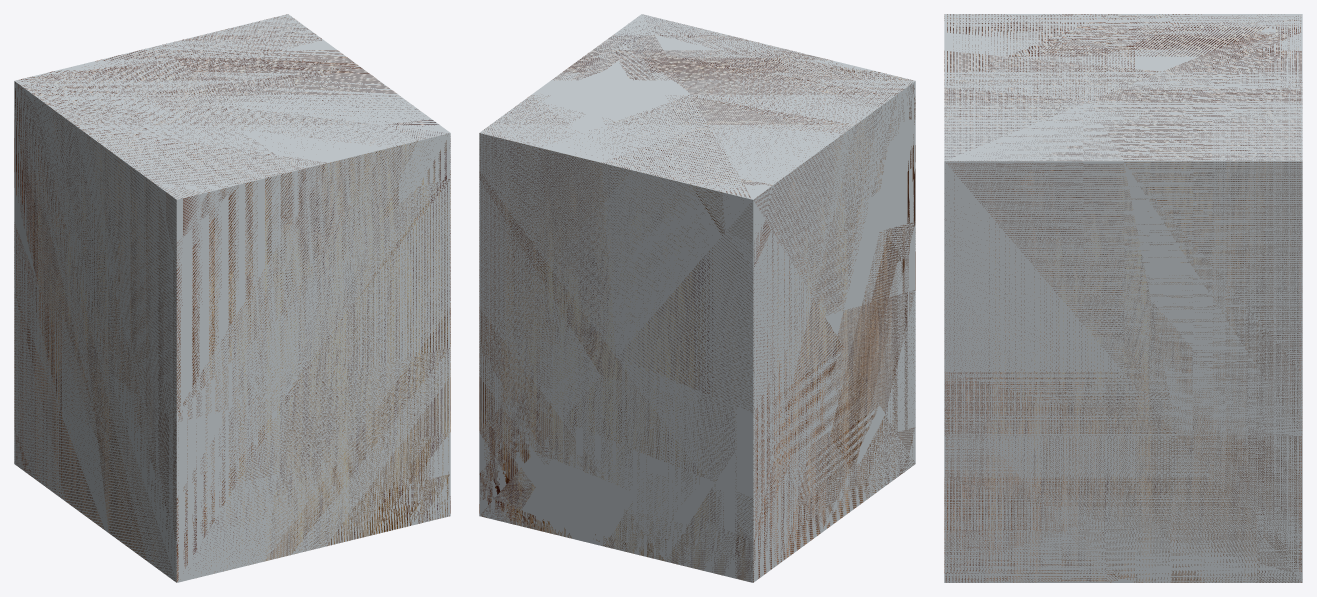
Rendered from merbau.glb.
The picture shows the model from 3 angles, left to right: view 1: azimuth 30°, elevation 25°; view 2: azimuth 150°, elevation 25°; view 3: azimuth 270°, elevation 25°; orthographic projection. The views are drawn at different scales.
Visible parts, largest first — view 1: BackSide, FrontSide; view 2: BackSide, FrontSide; view 3: BackSide, FrontSide.
Part boxes in pixels (<box>): BackSide: <box>14,14,450,582</box>; FrontSide: <box>14,14,450,581</box>; BackSide: <box>479,14,915,582</box>; FrontSide: <box>479,15,915,582</box>; BackSide: <box>944,14,1302,582</box>; FrontSide: <box>944,14,1302,582</box>.
Bounding box in the file's own units: 2.44 × 3.26 × 2.51.
Materials: 4 (3 with a texture image).
